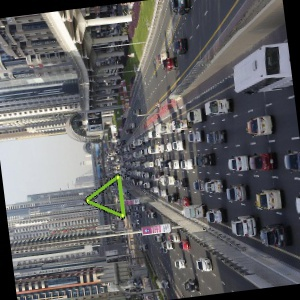triangle: (82, 170, 128, 222)
